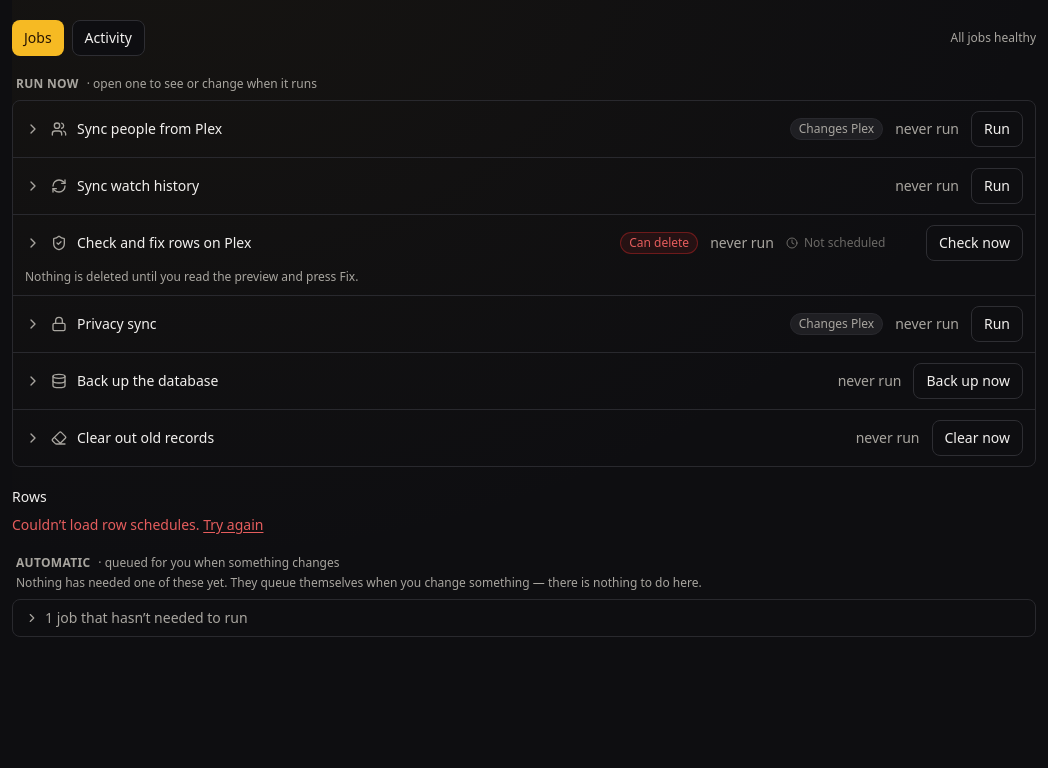
Test: JobsPage — sync users and watch history › reports real added/updated counts after syncing users
This screenshot has width=1048, height=768.
Click the button with aria-label "Run: Sync people from Plex" at (997, 129), box [971, 111, 1023, 147]
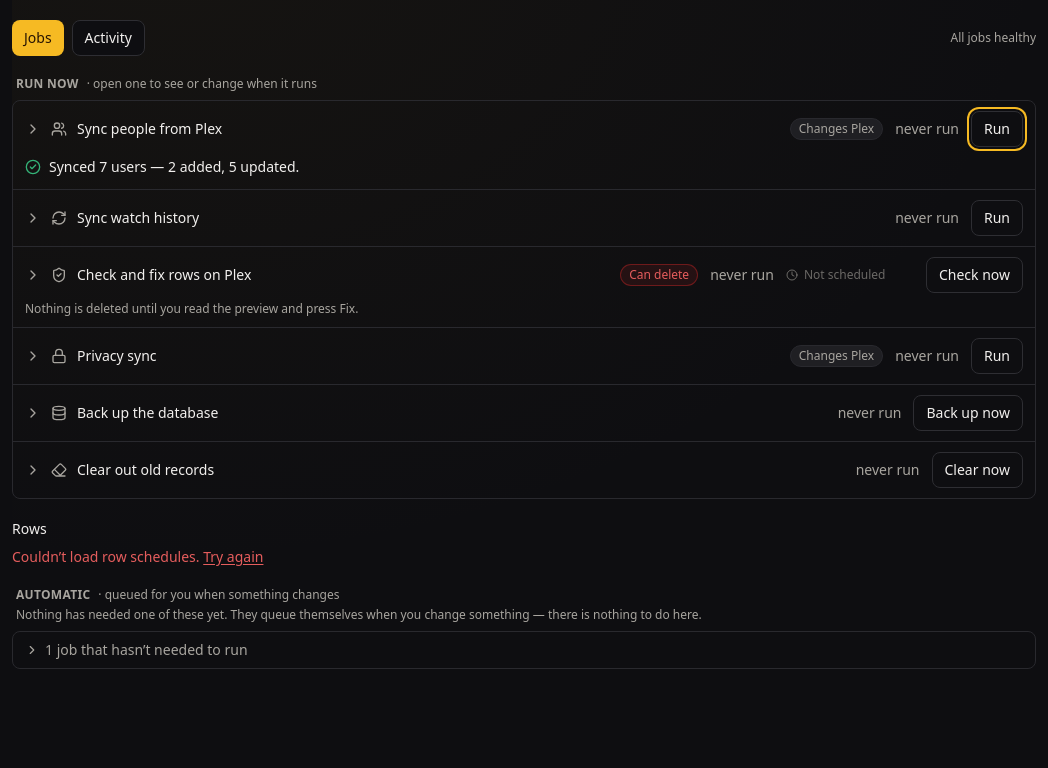
Now the text "Synced 7 users — 2 added, 5 updated." is shown, box [25, 157, 299, 176]
